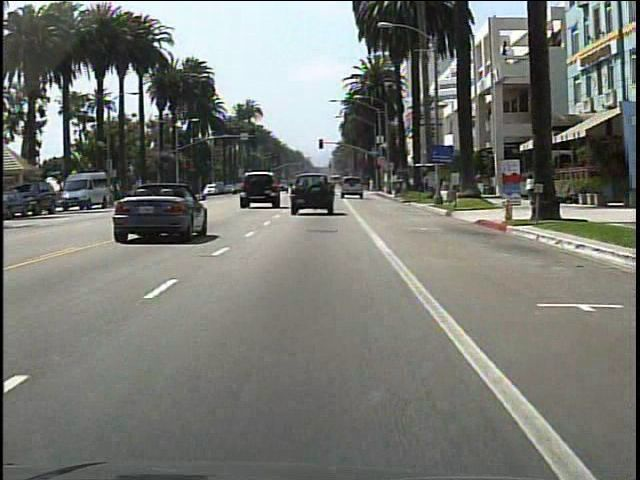person: (522, 170, 539, 210)
